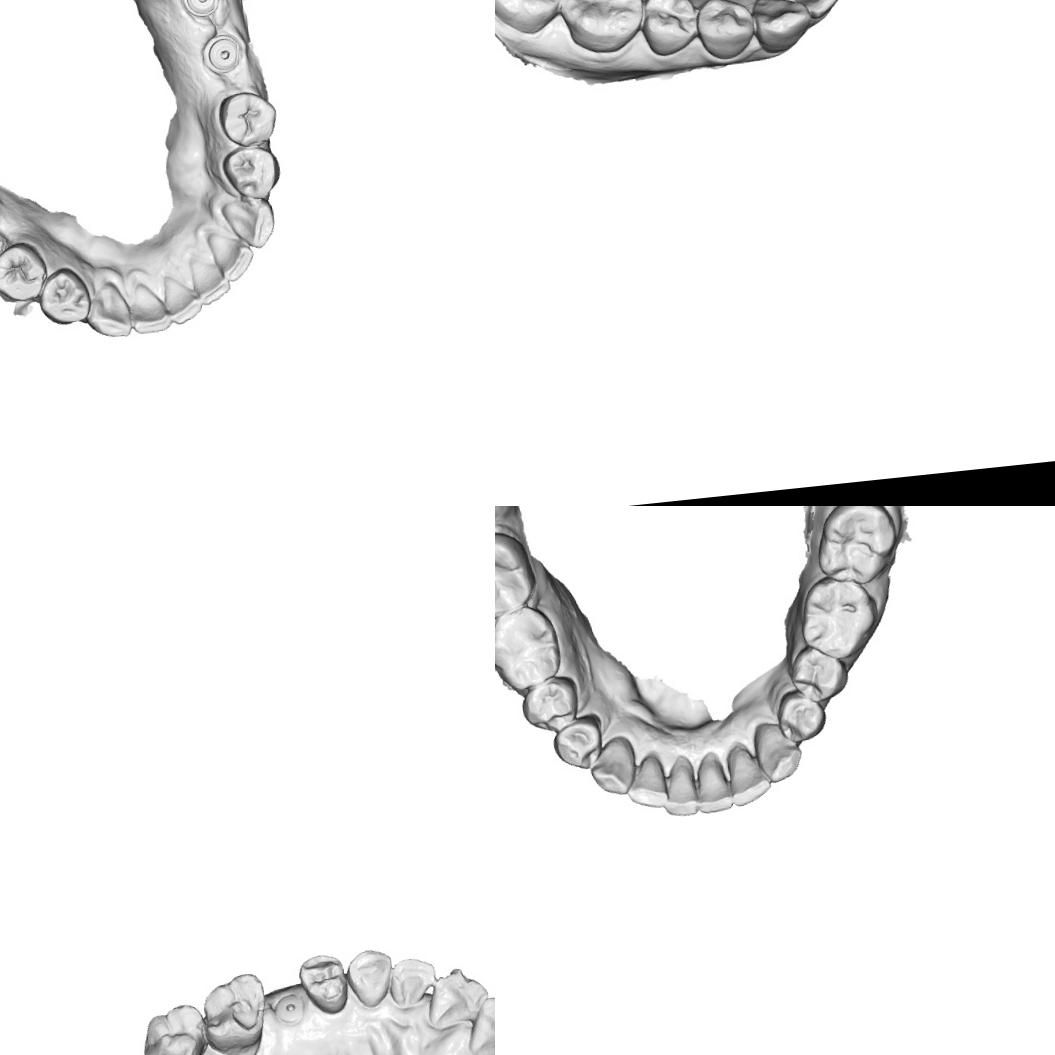canine: (214, 192, 278, 253), (343, 946, 397, 1012), (586, 732, 640, 798), (754, 719, 806, 786), (84, 277, 134, 344), (750, 0, 811, 54)
implant: (198, 30, 247, 78), (272, 991, 306, 1025), (177, 0, 223, 20)
incisor: (422, 964, 492, 1032), (724, 740, 775, 808), (203, 227, 256, 287), (184, 250, 235, 310), (385, 955, 439, 1010), (125, 276, 174, 336), (158, 266, 206, 327), (623, 752, 672, 811), (692, 752, 734, 815), (660, 759, 702, 818), (462, 993, 495, 1055), (785, 0, 848, 20)
molar: (793, 574, 882, 666), (813, 506, 903, 590), (495, 602, 565, 695), (199, 969, 272, 1055), (556, 0, 650, 57), (495, 527, 539, 625), (137, 1001, 211, 1055), (495, 0, 573, 40)
premolar: (216, 85, 283, 150), (219, 140, 284, 206), (690, 0, 760, 61), (517, 671, 584, 734), (786, 643, 850, 706), (34, 264, 95, 330), (548, 712, 610, 776), (296, 951, 351, 1018), (0, 239, 54, 306), (774, 685, 830, 746), (637, 0, 697, 56)
